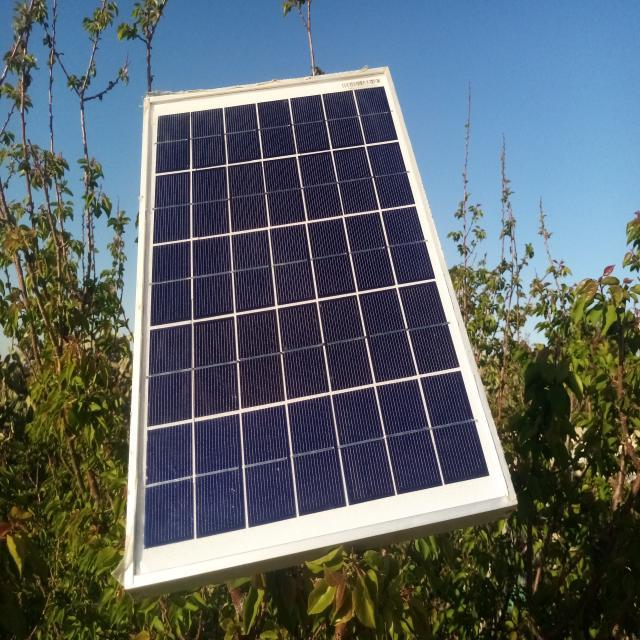no faulty: (125, 67, 519, 591)
